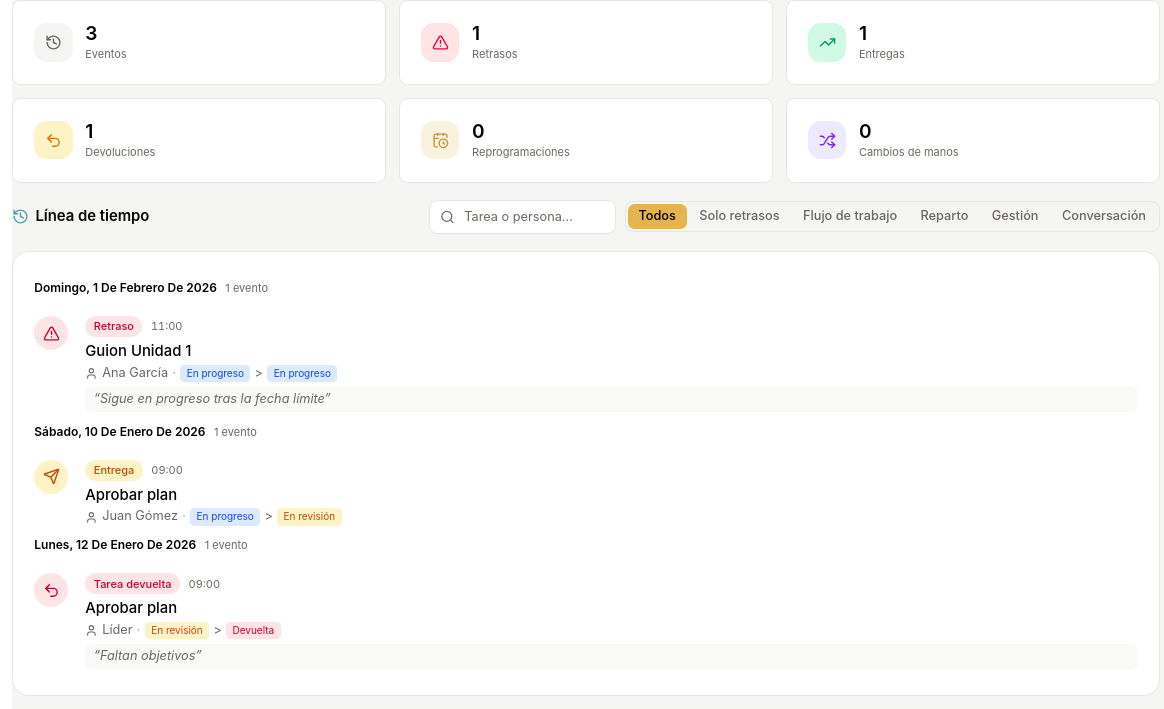
Test: TraceabilityPanel › filters the timeline by free-text search
Type "guion" into the search field named "Buscar en la línea de tiempo". click: (523, 217)
box: left=429, top=200, right=616, bottom=234
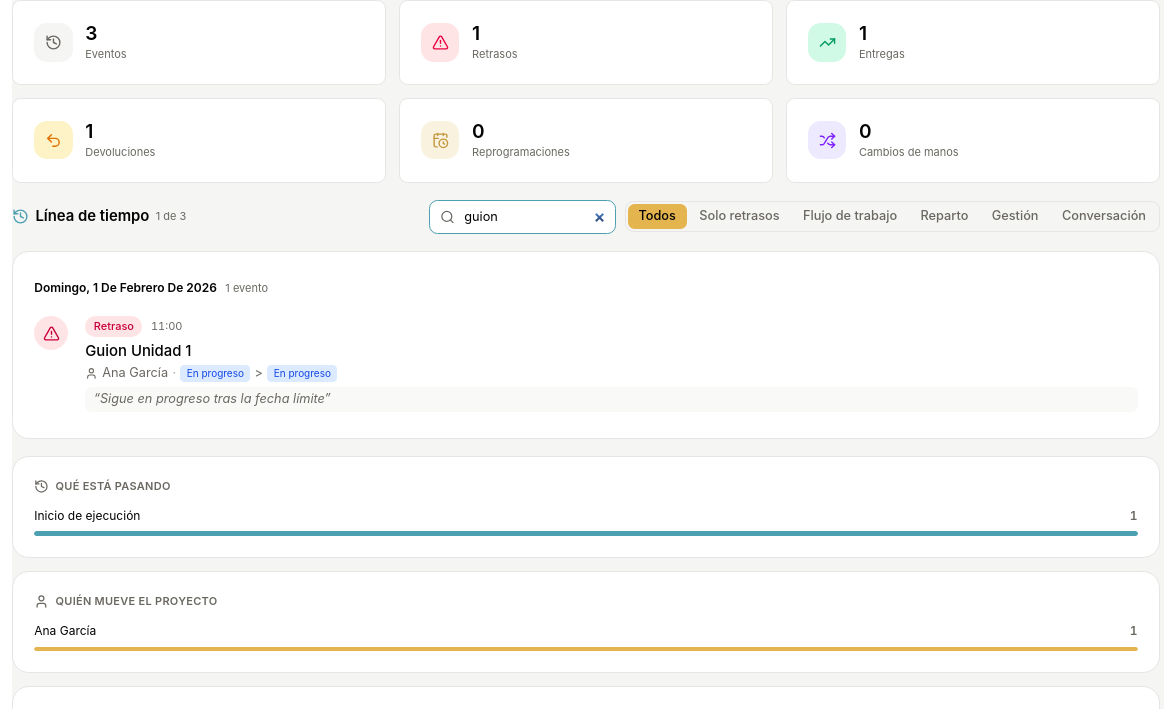
Expected: the text "Guion Unidad 1" is shown, left=85, top=342, right=192, bottom=360
Now the text "Tarea devuelta" is gone
